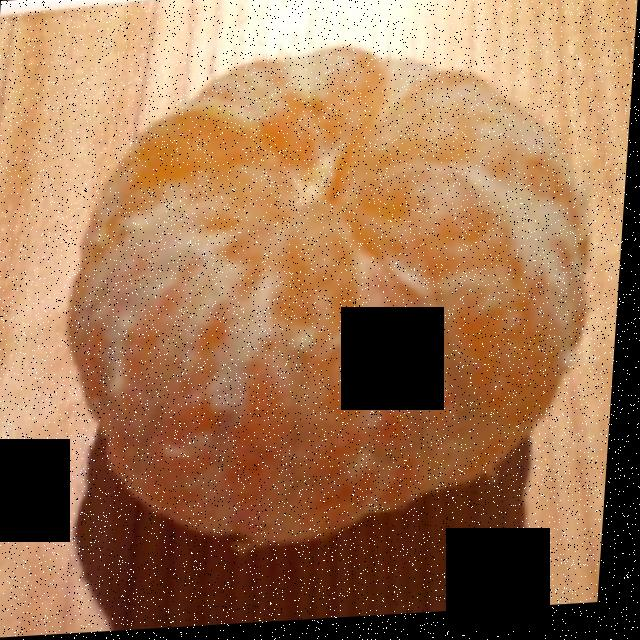mandarine: (74, 51, 581, 489)
